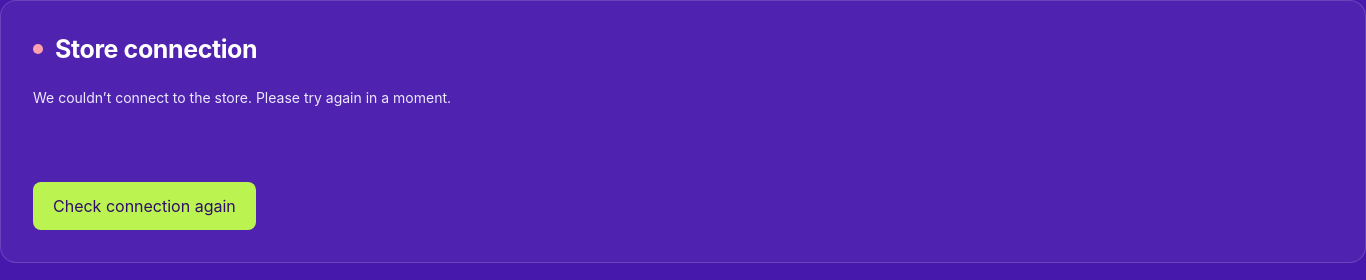
Test case: store connection › handles an outage and lets the user retry successfully
Expected: the text "We couldn’t connect" is shown, [33,88,451,106]
Click the button "Check connection again" at (144, 206), box [33,182,256,230]
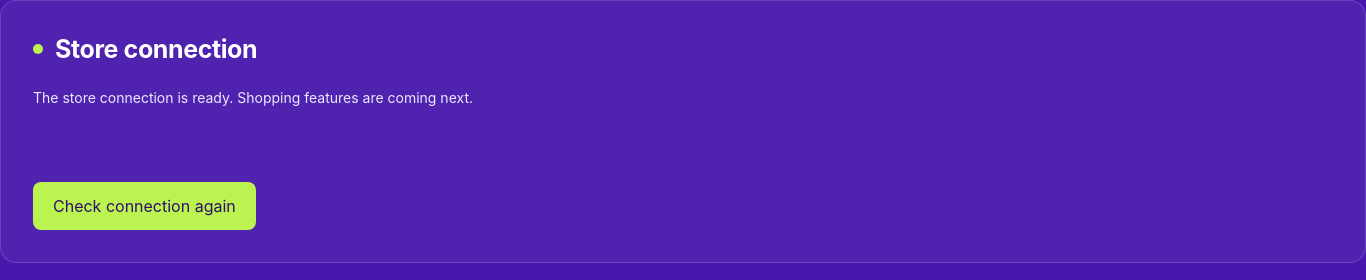
Now the text "The store connection is ready" is shown, box [33,88,473,106]
